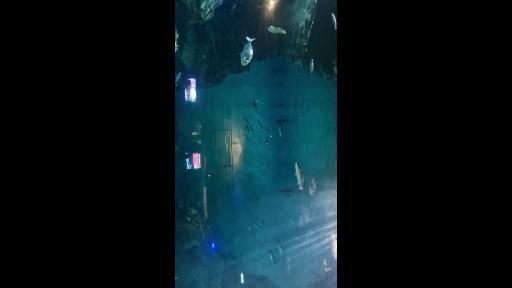Fish: (240, 37, 255, 66), (295, 163, 303, 190), (299, 205, 308, 227), (331, 233, 337, 259), (268, 26, 286, 34), (309, 176, 316, 195), (287, 256, 291, 275), (269, 251, 275, 263), (176, 73, 181, 86), (266, 127, 272, 137), (332, 14, 336, 29), (278, 243, 282, 255), (279, 122, 282, 137), (244, 119, 250, 126), (310, 59, 313, 72), (334, 62, 337, 74), (258, 120, 263, 127), (323, 259, 327, 267), (253, 102, 257, 109), (250, 127, 254, 133), (258, 220, 262, 226), (253, 99, 259, 103), (266, 138, 269, 145), (232, 5, 235, 12), (248, 115, 253, 119), (289, 218, 293, 223), (254, 223, 257, 229), (246, 136, 249, 142), (246, 126, 249, 132), (261, 220, 264, 225), (248, 226, 251, 231), (175, 276, 178, 280)
